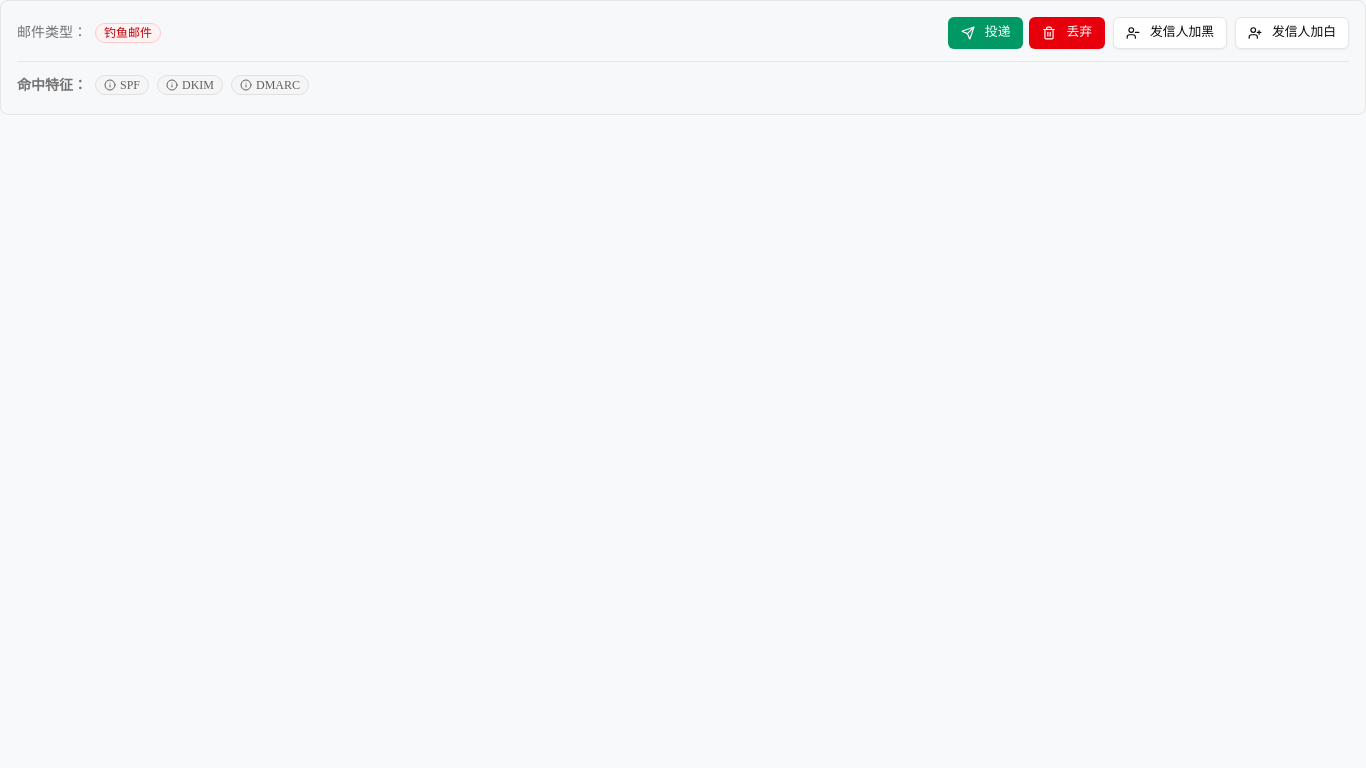
Scenario: ThreatSummaryCard single-recipient dispose buttons (Task 11b) › clicking deliver opens the ReclassifyDialog
Click the button with test id "email-disposal-overview-recipient-action-deliver" at {"x": 986, "y": 33}, box [948, 17, 1023, 49]
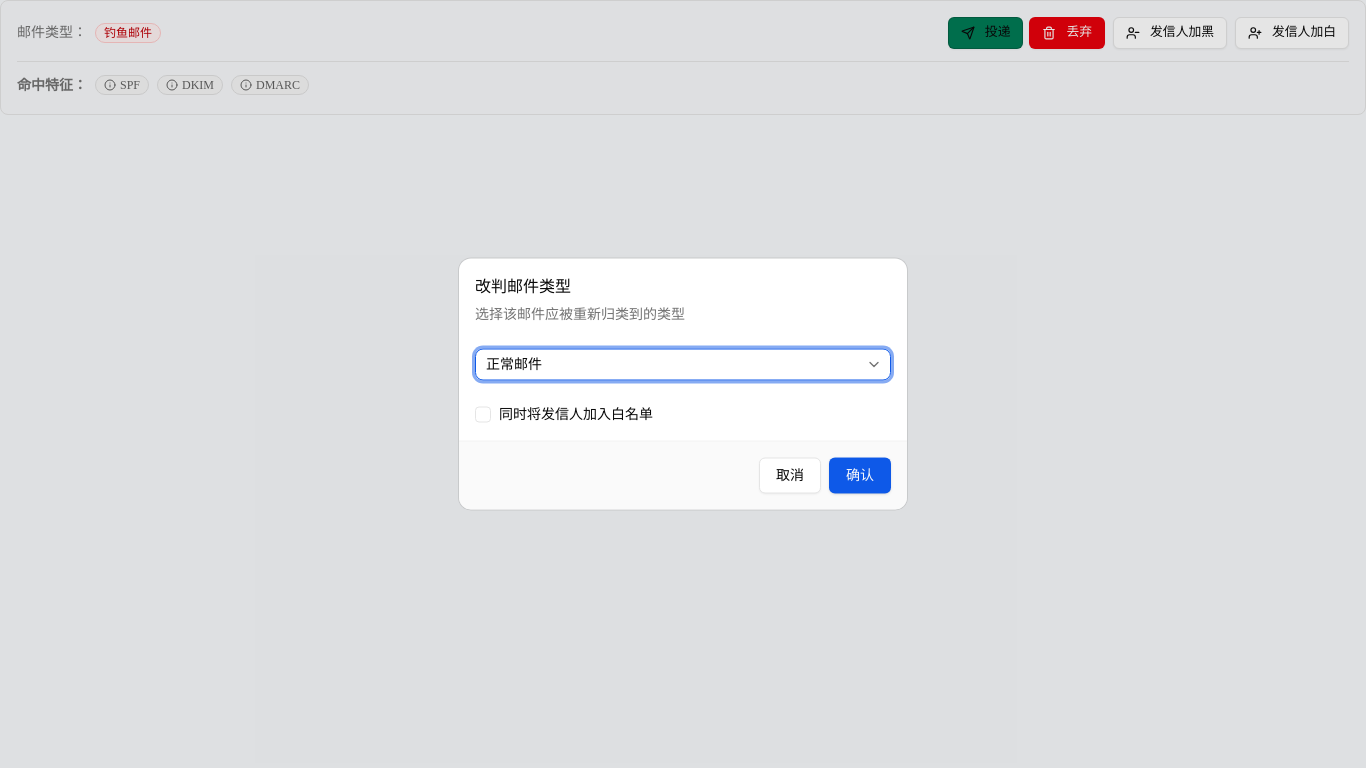
Check: the dialog with test id "disposal-reclassify-dialog" is shown, box [459, 258, 907, 510]
